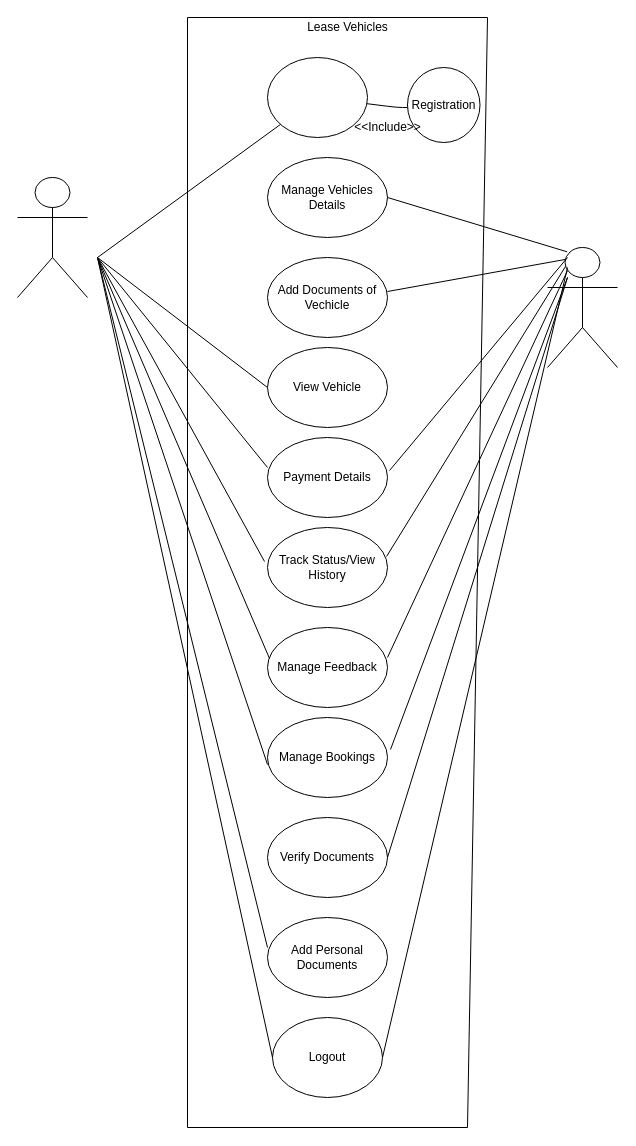
The diagram is 636 pixels wide and 1146 high, and some of its shapes have lost their labels. Each missing label, with the box of its shape:
Admin/Dealer: (546, 246, 618, 368)
Login: (266, 56, 368, 138)
User/Buyer: (16, 176, 88, 298)
